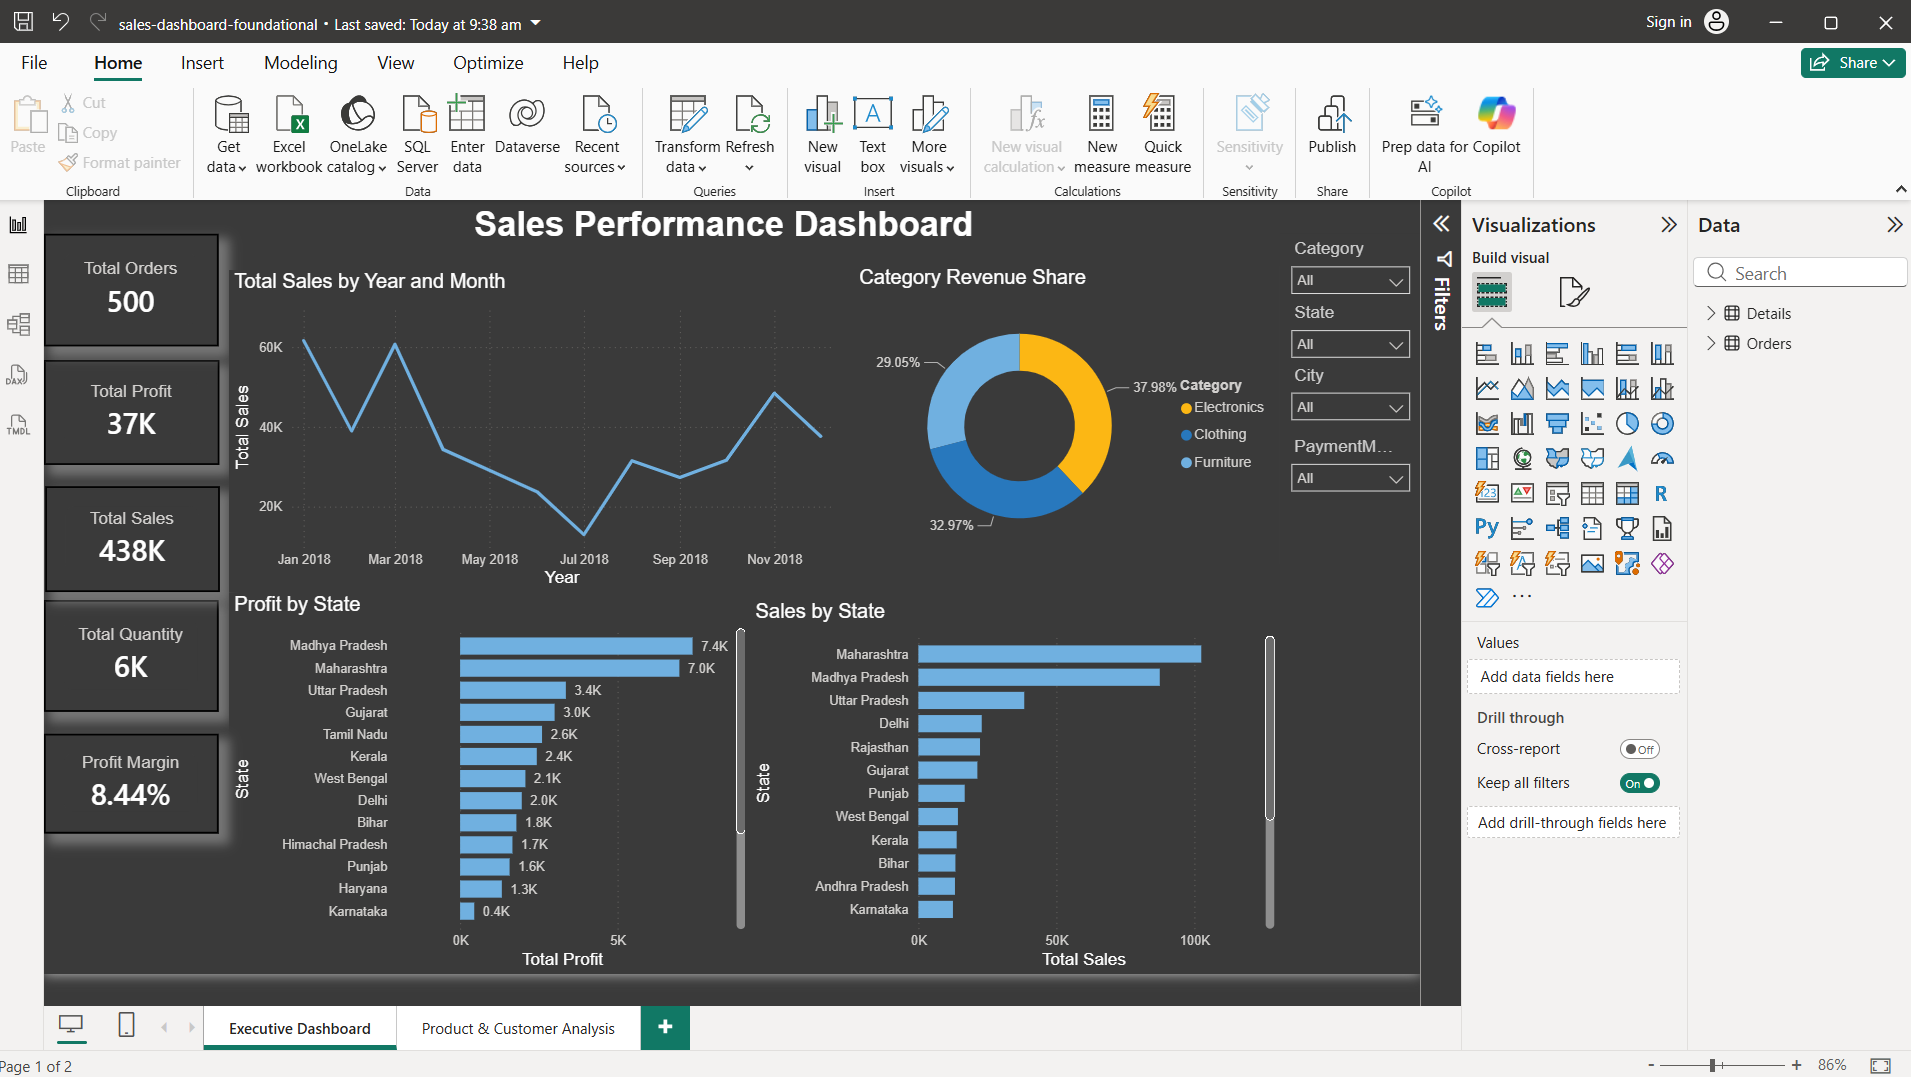

This screenshot's page, from the dashboard's own definition file:
{"tool":"powerbi","page":{"name":"Executive Dashboard","canvas":[1280,720],"ordinal":0},"visuals":[{"type":"cardVisual","fields":{"Data":["Orders.Total Profit"]},"box":[0,148.8,163.4,97.6],"z":0},{"type":"cardVisual","fields":{"Data":["Orders.Total Quantity"]},"box":[0,372,162.2,103.7],"z":1000},{"type":"cardVisual","fields":{"Data":["Orders.Total Orders"]},"box":[0,31.7,162.2,104.9],"z":2000},{"type":"cardVisual","fields":{"Data":["Orders.Total Sales"]},"box":[1.2,265.9,162.2,98.8],"z":3000},{"type":"lineChart","fields":{"Category":["Orders.Order Date.Variation.Date Hierarchy.Year","Orders.Order Date.Variation.Date Hierarchy.Month"],"Y":["Orders.Total Sales"]},"box":[172,64.6,581.7,300],"z":4000},{"type":"clusteredBarChart","title":"Sales by State","fields":{"Category":["Orders.State"],"Y":["Orders.Total Sales"]},"box":[657.3,372,492.7,347.6],"z":5000},{"type":"clusteredBarChart","title":"Profit by State","fields":{"Category":["Orders.State"],"Y":["Orders.Total Profit"]},"box":[172,364.6,485.4,354.9],"z":6000},{"type":"donutChart","title":"Category Revenue Share","fields":{"Category":["Details.Category"],"Y":["Orders.Total Sales"]},"box":[753.7,62.2,396.3,276.8],"z":7000},{"type":"slicer","fields":{"Values":["Orders.State"]},"box":[1150,90.2,130.5,58.5],"z":8000},{"type":"slicer","fields":{"Values":["Orders.City"]},"box":[1150,148.8,130.5,62.2],"z":9000},{"type":"slicer","fields":{"Values":["Details.Category"]},"box":[1150,31.7,130.5,62.2],"z":10000},{"type":"slicer","fields":{"Values":["Details.PaymentMode"]},"box":[1150,214.6,130.5,62.2],"z":11000},{"type":"textbox","box":[395.1,0,531.7,63.4],"z":12000},{"type":"cardVisual","fields":{"Data":["Orders.Profit Margin"]},"box":[0,496.3,162.2,92.7],"z":13000}]}

Visuals, with their boxes on the page's 1280x720 design canvas (x1, y1, x2, y2). These are canvas units, not pixel positions in the 1911x1077 screenshot, which may show the page scaled, cropped or inside an application window:
cardVisual - Orders.Total Profit: {"x1": 0, "y1": 149, "x2": 163, "y2": 246}
cardVisual - Orders.Total Quantity: {"x1": 0, "y1": 372, "x2": 162, "y2": 476}
cardVisual - Orders.Total Orders: {"x1": 0, "y1": 32, "x2": 162, "y2": 137}
cardVisual - Orders.Total Sales: {"x1": 1, "y1": 266, "x2": 163, "y2": 365}
lineChart - Orders.Order Date.Variation.Date Hierarchy.Year x Orders.Order Date.Variation.Date Hierarchy.Month: {"x1": 172, "y1": 65, "x2": 754, "y2": 365}
"Sales by State" clusteredBarChart: {"x1": 657, "y1": 372, "x2": 1150, "y2": 720}
"Profit by State" clusteredBarChart: {"x1": 172, "y1": 365, "x2": 657, "y2": 720}
"Category Revenue Share" donutChart: {"x1": 754, "y1": 62, "x2": 1150, "y2": 339}
slicer - Orders.State: {"x1": 1150, "y1": 90, "x2": 1280, "y2": 149}
slicer - Orders.City: {"x1": 1150, "y1": 149, "x2": 1280, "y2": 211}
slicer - Details.Category: {"x1": 1150, "y1": 32, "x2": 1280, "y2": 94}
slicer - Details.PaymentMode: {"x1": 1150, "y1": 215, "x2": 1280, "y2": 277}
textbox: {"x1": 395, "y1": 0, "x2": 927, "y2": 63}
cardVisual - Orders.Profit Margin: {"x1": 0, "y1": 496, "x2": 162, "y2": 589}
